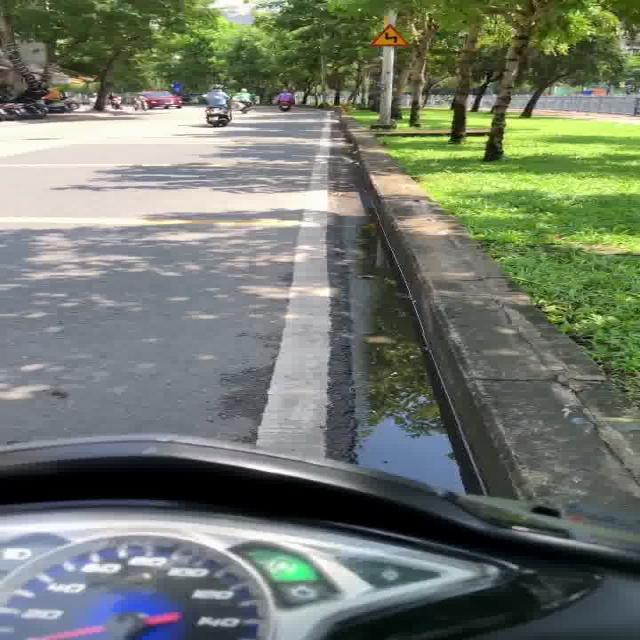Bien bao nhieu cho ngoat nguy hiem lien tiep: (359, 20, 414, 48)
